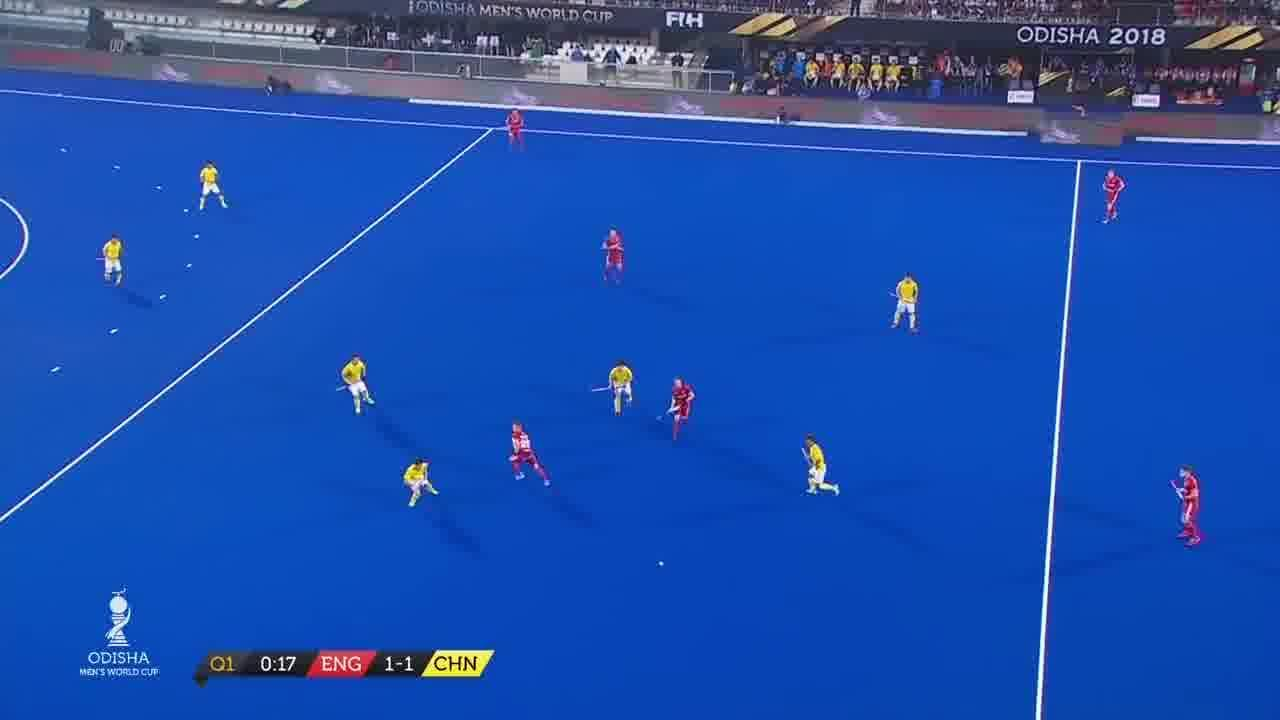ball: (654, 556, 670, 570)
